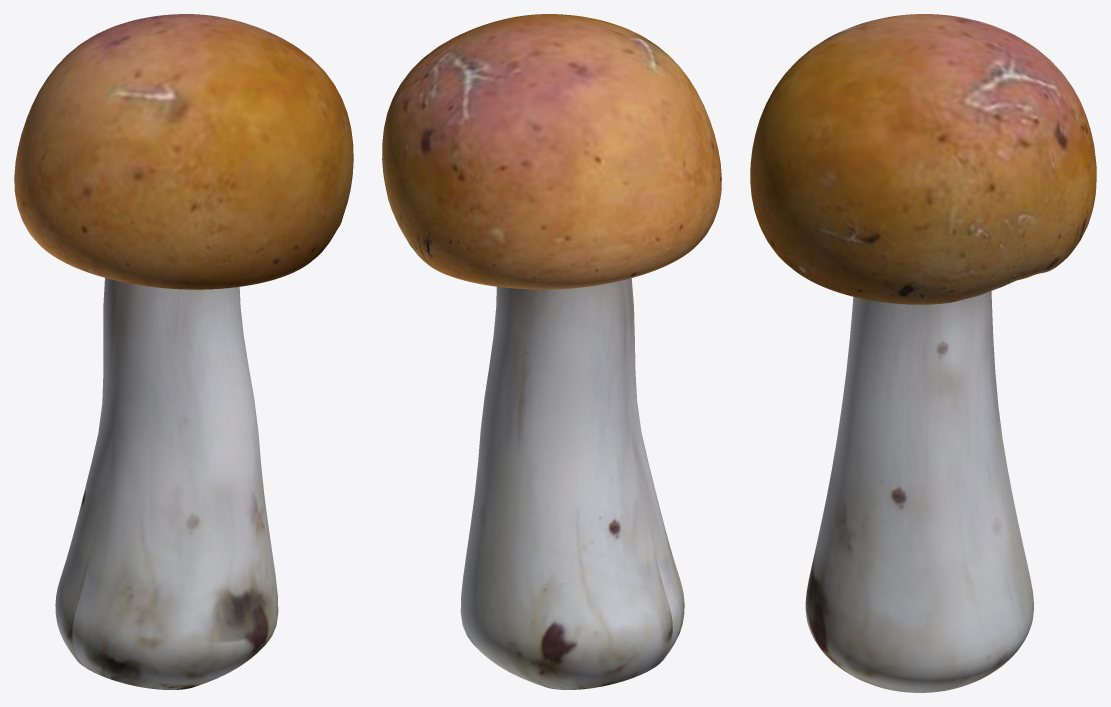
Rendered from SENE_31.fbx.
The picture shows the model from 3 angles, left to right: view 1: azimuth 30°, elevation 25°; view 2: azimuth 150°, elevation 25°; view 3: azimuth 270°, elevation 25°; orthographic projection. The views are drawn at different scales.
Parts seen in each view (by area): view 1: SENE_31; view 2: SENE_31; view 3: SENE_31.
Boxes of the visible parts, <box> form: SENE_31: <box>14,14,353,689</box>; SENE_31: <box>382,14,721,689</box>; SENE_31: <box>750,14,1096,692</box>.
Bounding box in the file's own units: 35.56 × 73.7 × 35.1.
Materials: 1 (1 with a texture image).
